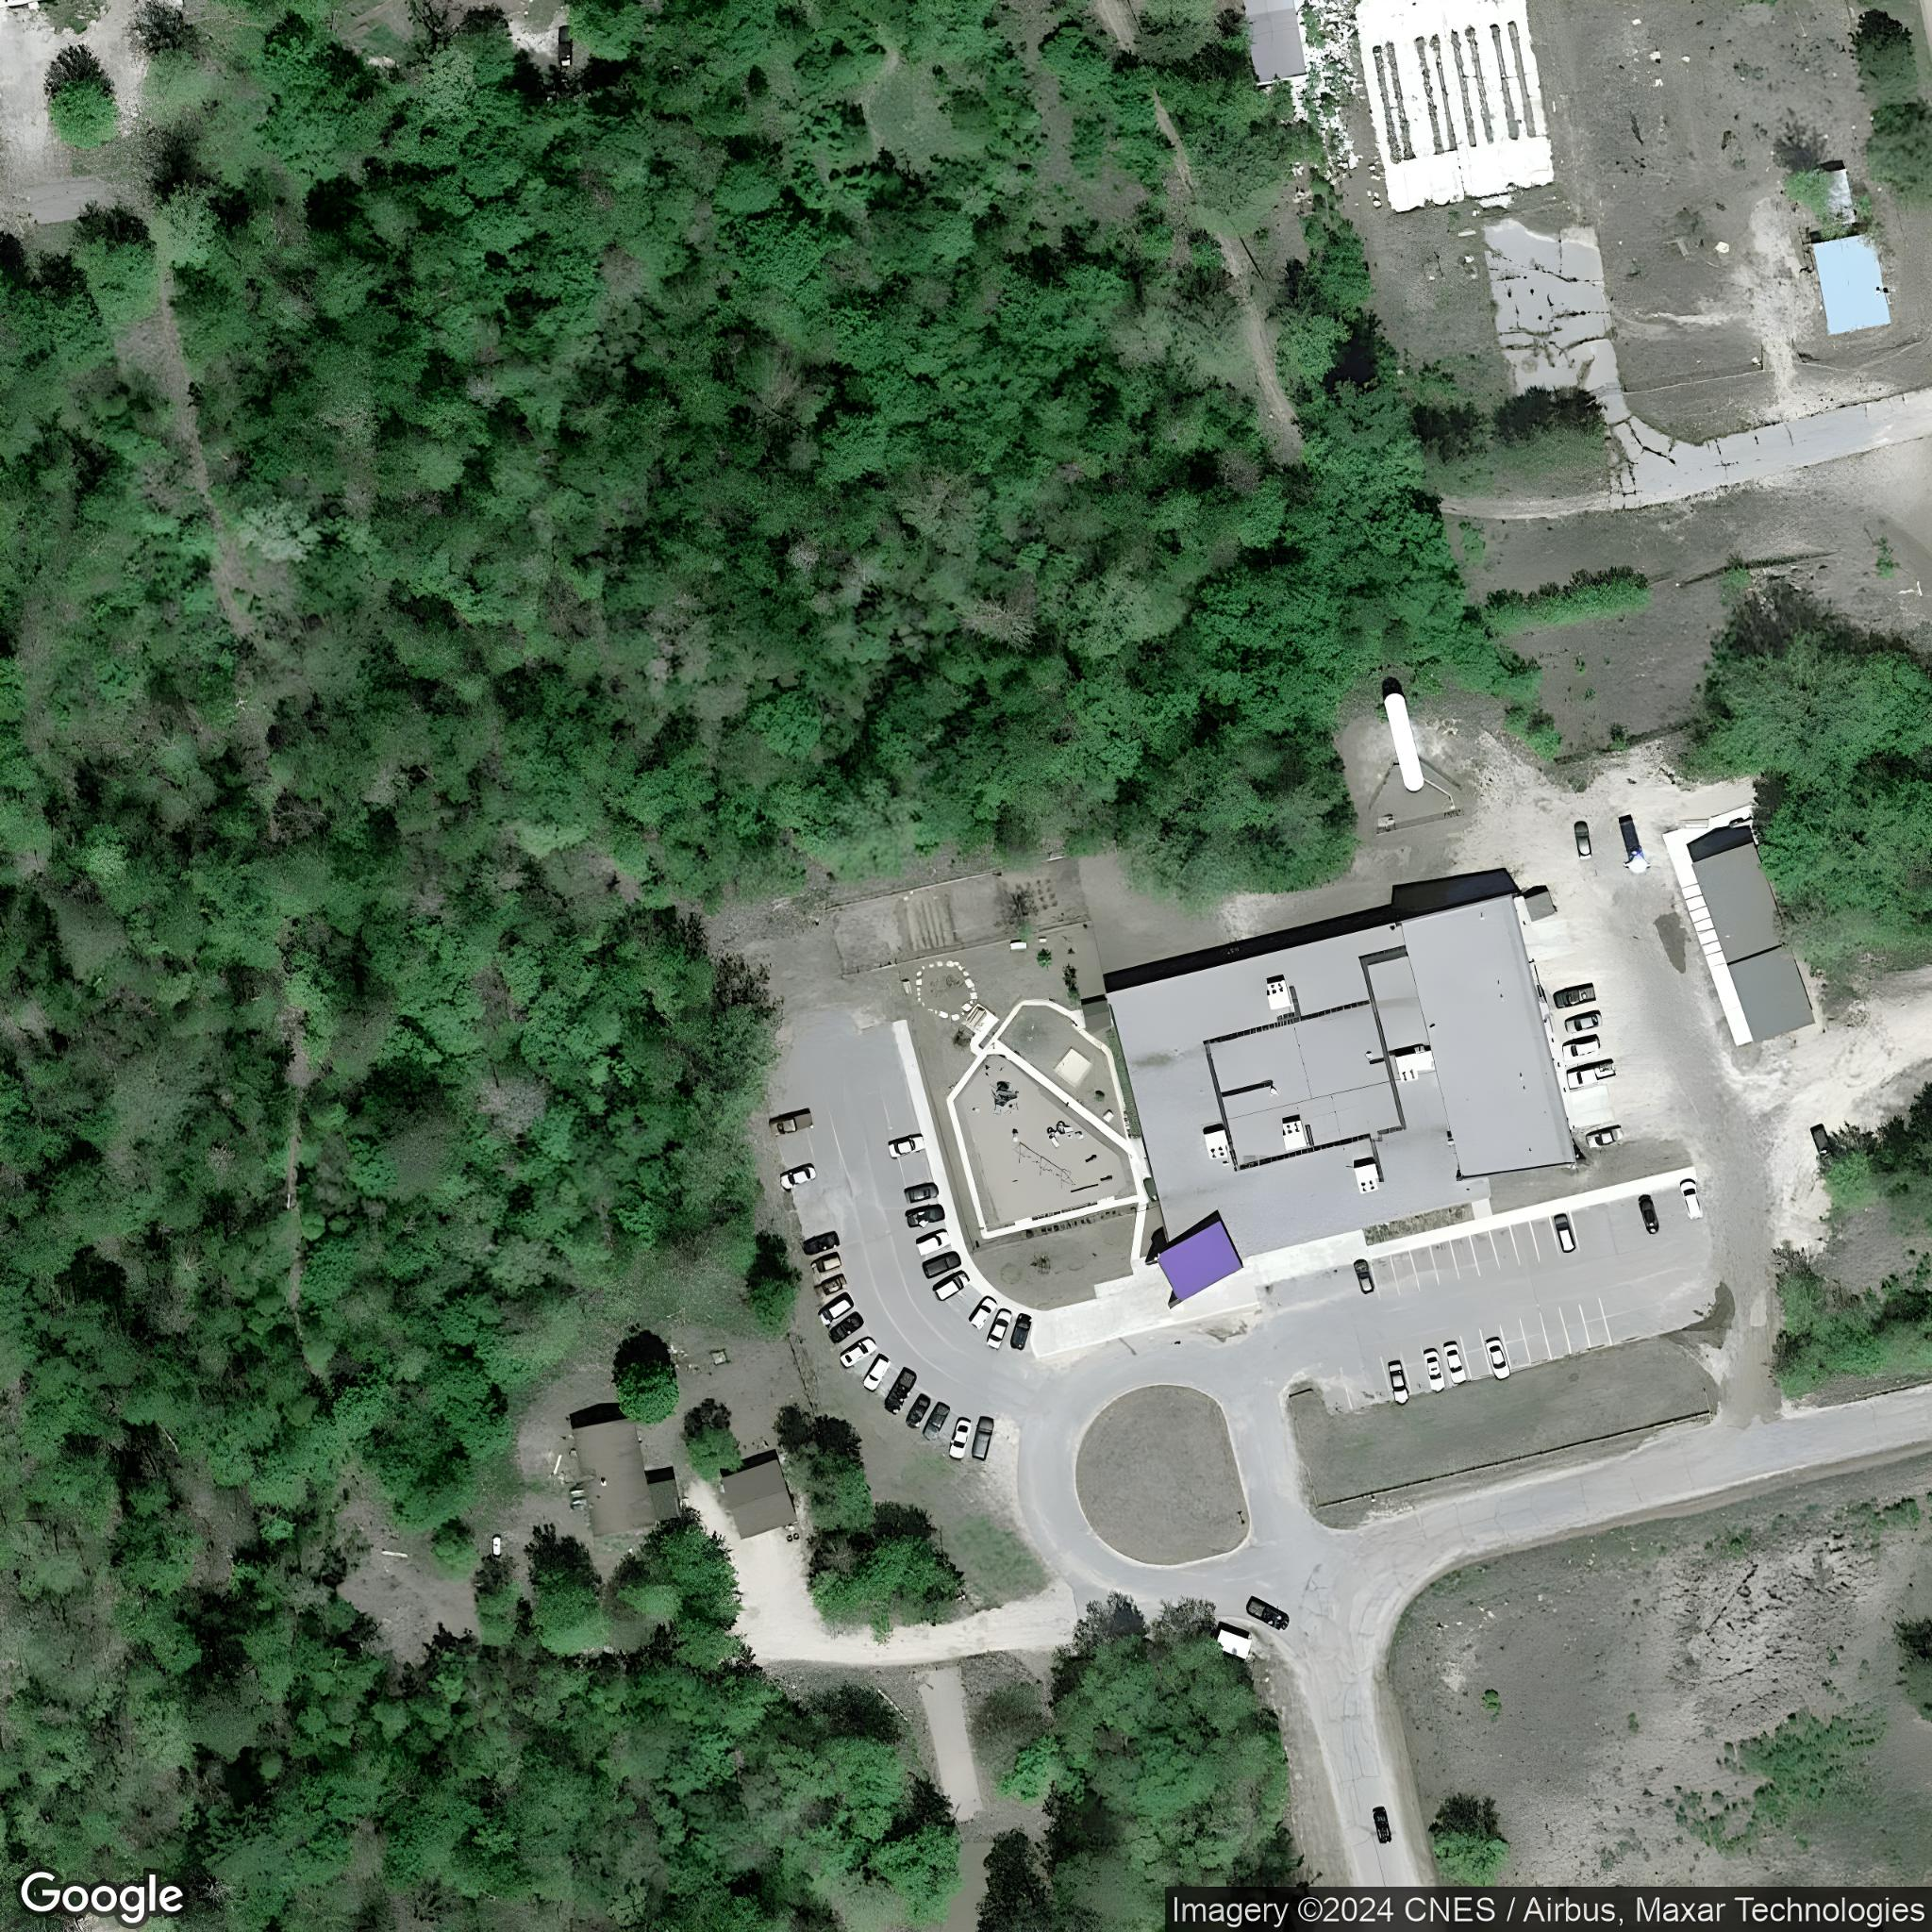Garage: (1691, 840, 1819, 1042), (1808, 234, 1893, 334), (720, 1460, 798, 1539)
House: (571, 1417, 683, 1537), (1242, 0, 1307, 83)
Other: (1079, 892, 1580, 1300)
Propane: (1382, 690, 1428, 796), (490, 1530, 502, 1559)
